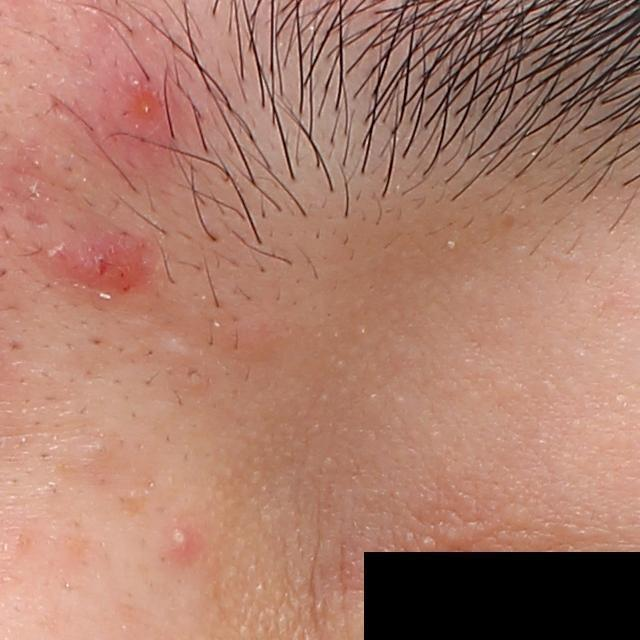comedo: (84, 439, 107, 460)
hypertrophic_scar: (144, 333, 211, 367)
papule: (102, 60, 184, 152), (56, 223, 153, 294)
pustule: (154, 519, 197, 562)
